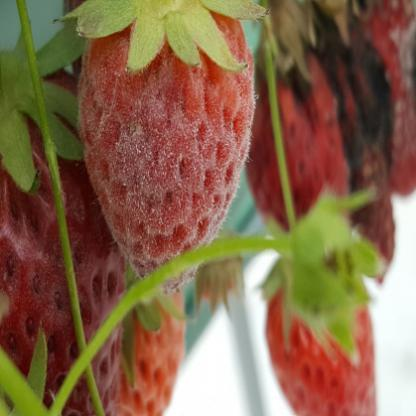Strawberry_Powdery_Mildew_Fruit: (74, 0, 257, 298), (0, 64, 127, 415)
